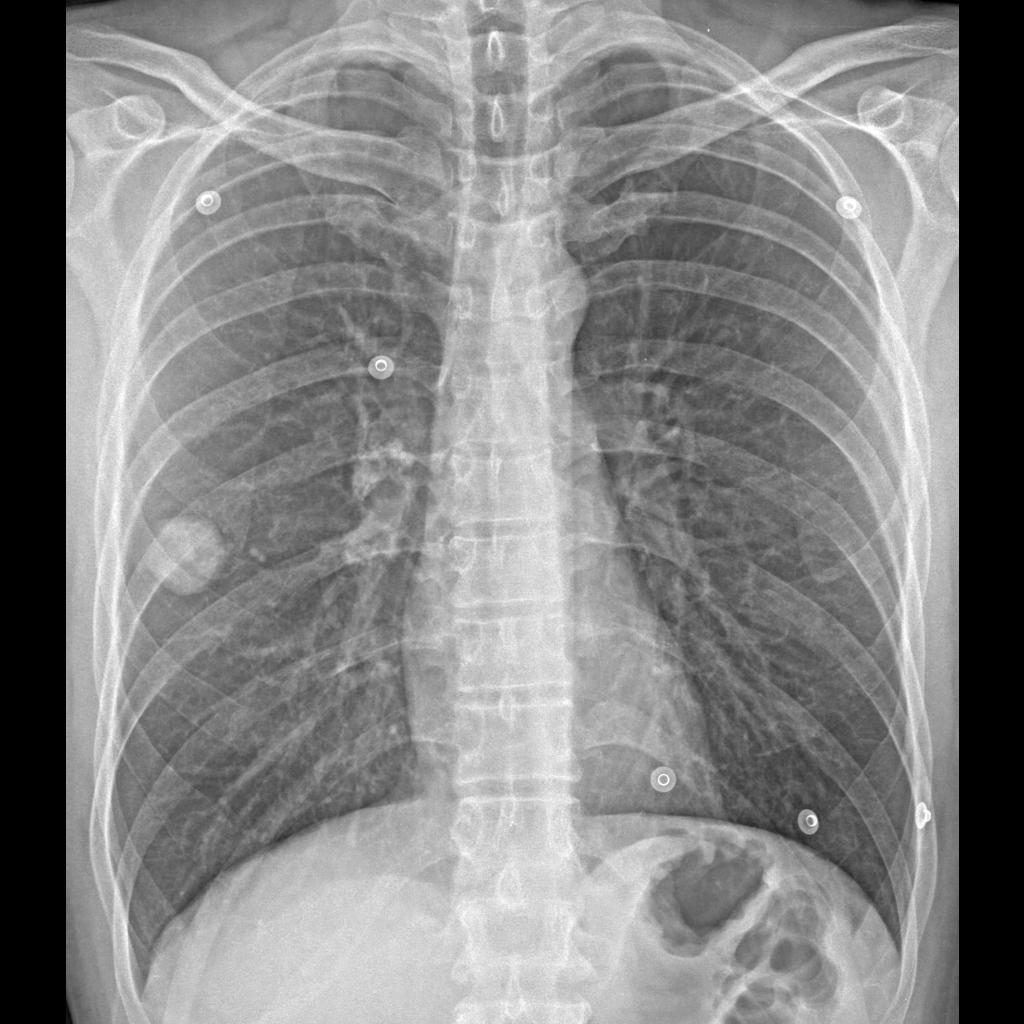Nodule: (140, 506, 252, 607)
